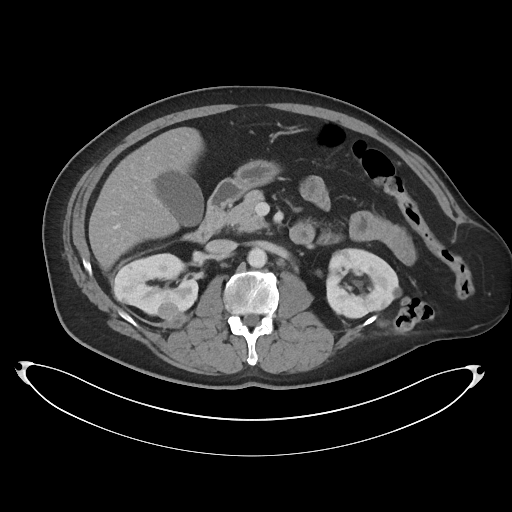Lesion: (153, 299, 182, 321)
